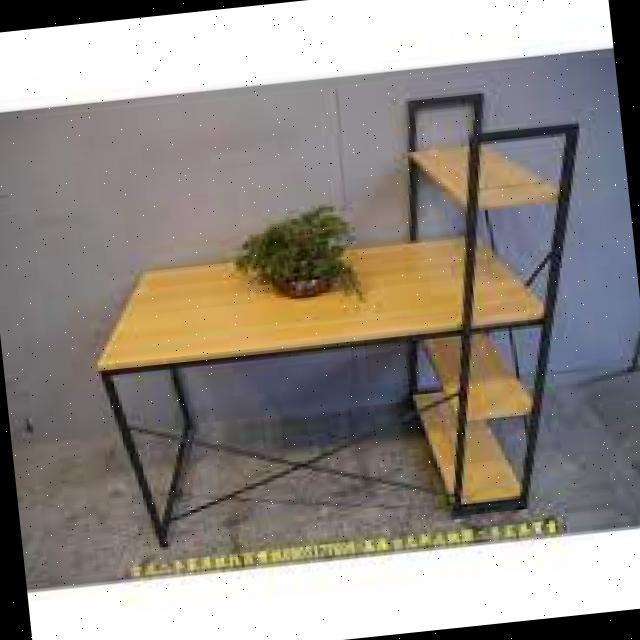Table: (74, 205, 596, 562)
